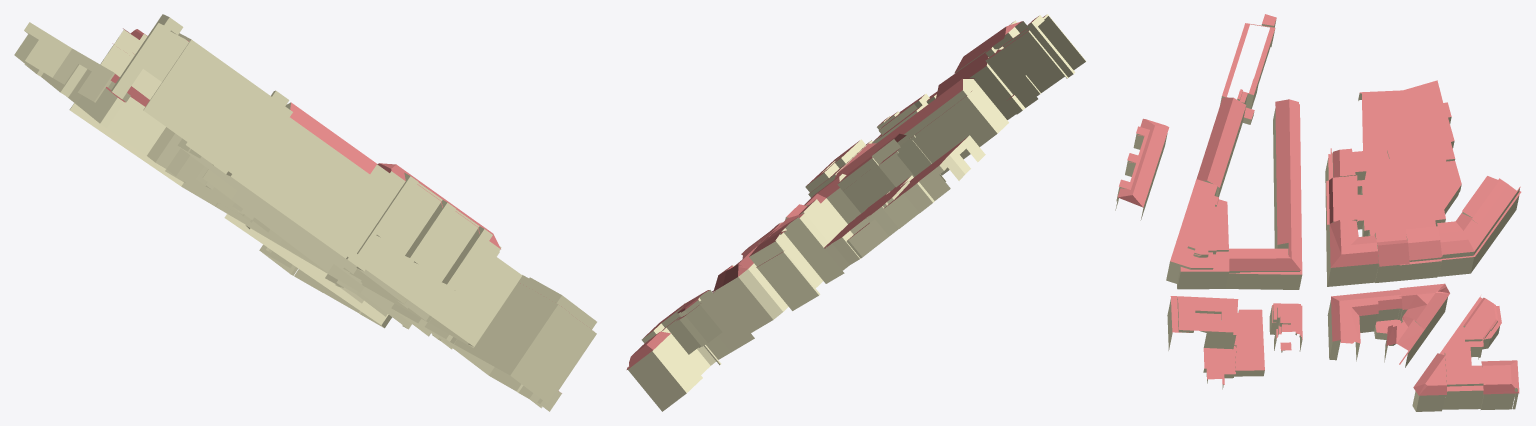
File: tile_083.glb
The picture shows the model from 3 angles, left to right: view 1: azimuth 30°, elevation 25°; view 2: azimuth 150°, elevation 25°; view 3: azimuth 270°, elevation 25°; orthographic projection. The views are drawn at different scales.
Visible parts, largest first — view 1: Batched_Building_ID_92144417-F93B-4560-B6C2-E23E08E048E2; view 2: Batched_Building_ID_92144417-F93B-4560-B6C2-E23E08E048E2; view 3: Batched_Building_ID_92144417-F93B-4560-B6C2-E23E08E048E2.
Boxes of the visible parts, box(x1,y1,x2,y2) form: Batched_Building_ID_92144417-F93B-4560-B6C2-E23E08E048E2: box(14, 14, 596, 411); Batched_Building_ID_92144417-F93B-4560-B6C2-E23E08E048E2: box(626, 14, 1086, 411); Batched_Building_ID_92144417-F93B-4560-B6C2-E23E08E048E2: box(1115, 14, 1521, 411).
Bounding box in the file's own units: 145 × 152 × 188.
